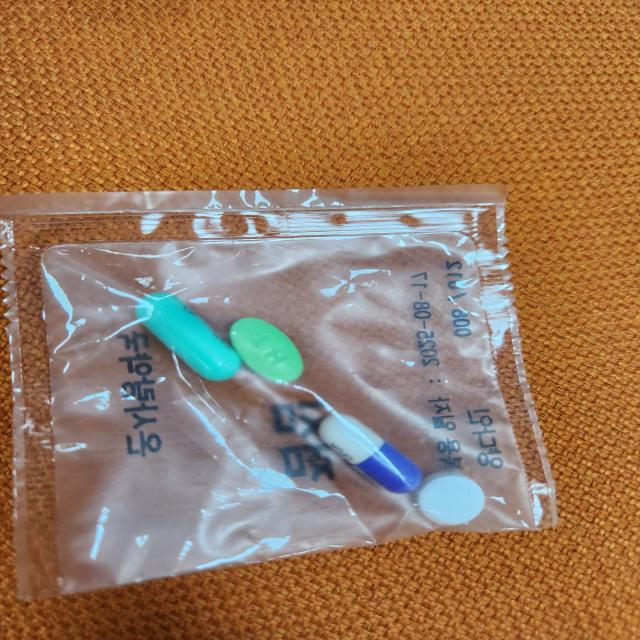러키펜정: (415, 471, 487, 529)
씨엠지세파클러캡슐: (317, 404, 425, 498)
에르도캡슐: (135, 294, 244, 384)
휴티렌정: (227, 317, 306, 386)
